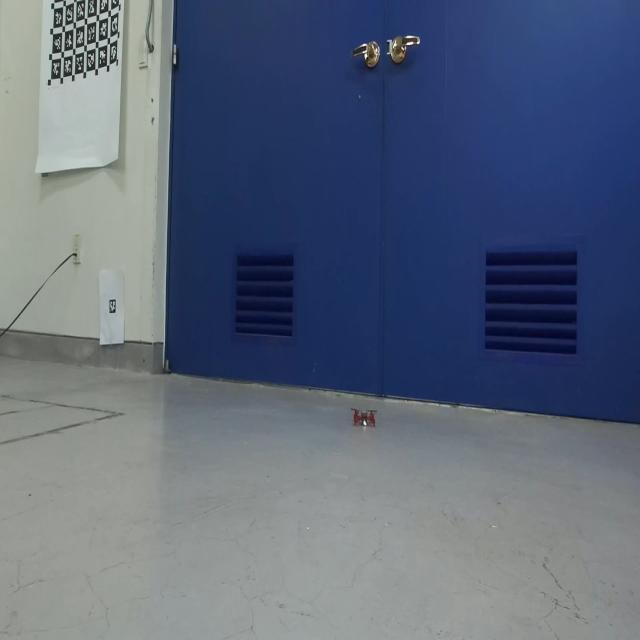crazyflie: (350, 402, 378, 432)
